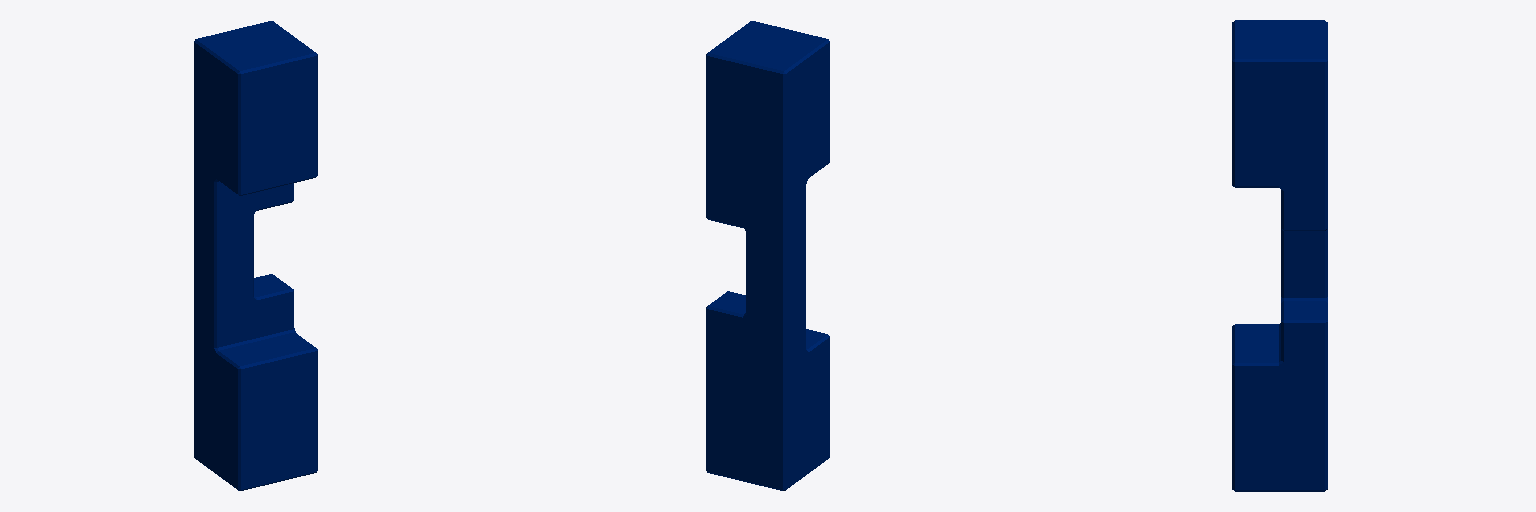
robot.urdf — obj_5:
<robot name="obj_5" version="1.0">
  <link name="obj_5">
    <collision name="obj_5.001">
      <origin rpy="0.00000 0.00000 0.00000" xyz="0.00000 0.00000 0.00000"/>
      <geometry>
        <mesh filename="../meshes/obj/geometry_0.007.obj" scale="1.00000 1.00000 1.00000"/>
      </geometry>
    </collision>
    <collision name="obj_5.002">
      <origin rpy="0.00000 0.00000 0.00000" xyz="0.00000 0.00000 0.00000"/>
      <geometry>
        <mesh filename="../meshes/obj/geometry_1.006.obj" scale="1.00000 1.00000 1.00000"/>
      </geometry>
    </collision>
    <collision name="obj_5.003">
      <origin rpy="0.00000 0.00000 0.00000" xyz="0.00000 0.00000 0.00000"/>
      <geometry>
        <mesh filename="../meshes/obj/geometry_2.006.obj" scale="1.00000 1.00000 1.00000"/>
      </geometry>
    </collision>
    <collision name="obj_5.004">
      <origin rpy="0.00000 0.00000 0.00000" xyz="0.00000 0.00000 0.00000"/>
      <geometry>
        <mesh filename="../meshes/obj/geometry_3.006.obj" scale="1.00000 1.00000 1.00000"/>
      </geometry>
    </collision>
    <collision name="obj_5.005">
      <origin rpy="0.00000 0.00000 0.00000" xyz="0.00000 0.00000 0.00000"/>
      <geometry>
        <mesh filename="../meshes/obj/geometry_4.006.obj" scale="1.00000 1.00000 1.00000"/>
      </geometry>
    </collision>
    <collision name="obj_5.006">
      <origin rpy="0.00000 0.00000 0.00000" xyz="0.00000 0.00000 0.00000"/>
      <geometry>
        <mesh filename="../meshes/obj/geometry_5.005.obj" scale="1.00000 1.00000 1.00000"/>
      </geometry>
    </collision>
    <collision name="obj_5.007">
      <origin rpy="0.00000 0.00000 0.00000" xyz="0.00000 0.00000 0.00000"/>
      <geometry>
        <mesh filename="../meshes/obj/geometry_6.005.obj" scale="1.00000 1.00000 1.00000"/>
      </geometry>
    </collision>
    <collision name="obj_5.008">
      <origin rpy="0.00000 0.00000 0.00000" xyz="0.00000 0.00000 0.00000"/>
      <geometry>
        <mesh filename="../meshes/obj/geometry_7.005.obj" scale="1.00000 1.00000 1.00000"/>
      </geometry>
    </collision>
    <collision name="obj_5.009">
      <origin rpy="0.00000 0.00000 0.00000" xyz="0.00000 0.00000 0.00000"/>
      <geometry>
        <mesh filename="../meshes/obj/geometry_8.004.obj" scale="1.00000 1.00000 1.00000"/>
      </geometry>
    </collision>
    <inertial>
      <inertia ixx="0.00024" ixy="0.00000" ixz="0.00000" iyy="0.00024" iyz="0.00000" izz="0.00002"/>
      <origin rpy="0.00000 0.00000 0.00000" xyz="0.00000 0.00000 0.00000"/>
      <mass value="0.01000"/>
    </inertial>
    <visual name="obj_5_vis">
      <material name="turnarrow_blue"/>
      <origin rpy="-0.00000 1.57080 0.00000" xyz="-0.25663 0.30275 0.25000"/>
      <geometry>
        <mesh filename="../meshes/obj/obj_1_LUBAANSUO2.stp.004.obj" scale="0.00500 0.00500 0.00500"/>
      </geometry>
    </visual>
  </link>
  <material name="turnarrow_blue">
    <color rgba="0.00000 0.16471 0.44314 1.00000"/>
  </material>
</robot>

--- Facts derived from the render (not from the file) ---
3 views of the same robot in one strip: view 1: azimuth 30°, elevation 25°; view 2: azimuth 150°, elevation 25°; view 3: azimuth 270°, elevation 25° (orthographic).
Robot: obj_5 — 1 links, 0 joints (none); root link obj_5; default pose: every joint at zero.
Visible links, largest first — view 1: obj_5; view 2: obj_5; view 3: obj_5.
Boxes of the visible links, x1,y1,x2,y2 form: obj_5: [194, 21, 317, 490]; obj_5: [706, 21, 829, 490]; obj_5: [1232, 20, 1327, 491].
Bounding box of the posed robot: 0.1 × 0.1 × 0.5 m (x, y, z).
1 mesh visuals loaded from 1 distinct referenced files (1 OBJ).